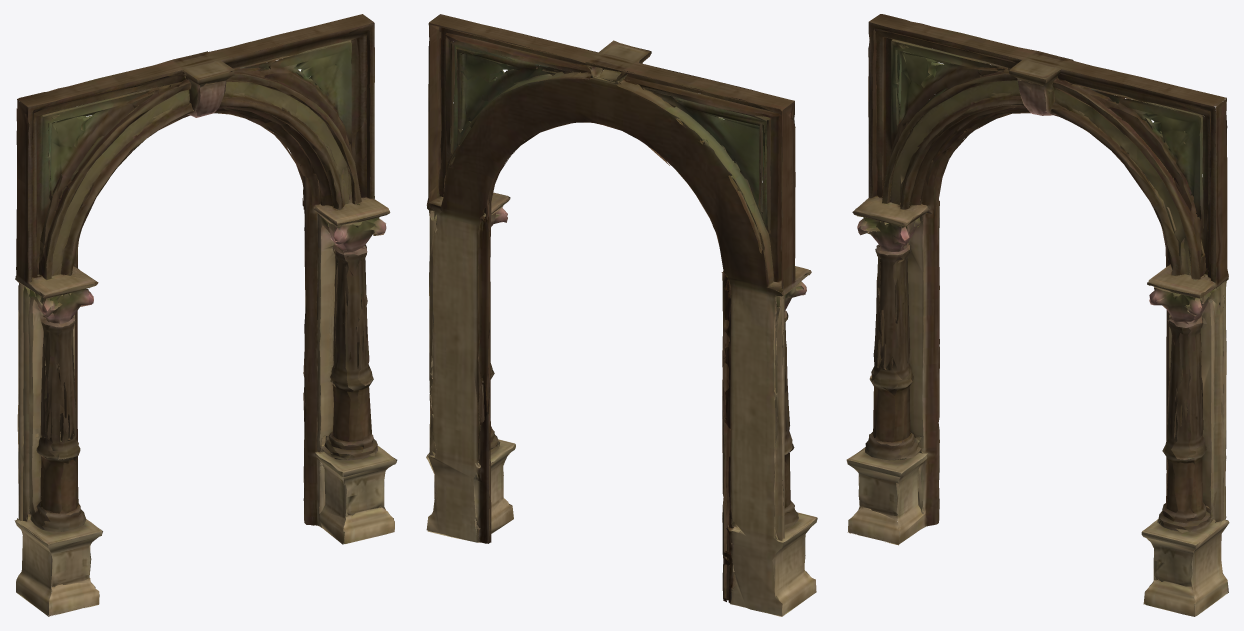
Rendered from column.glb.
3 views of the same model, side by side, from view 1: azimuth 30°, elevation 25°; view 2: azimuth 150°, elevation 25°; view 3: azimuth 330°, elevation 25° (orthographic). The views are drawn at different scales.
Visible parts, largest first — view 1: world; view 2: world; view 3: world.
Part boxes in pixels (left/top/right/bottom): world: left=14, top=14, right=397, bottom=616; world: left=426, top=14, right=817, bottom=616; world: left=846, top=14, right=1229, bottom=616.
Bounding box in the file's own units: 2.21 × 3.01 × 0.3877.
Materials: 1 (1 with a texture image).
